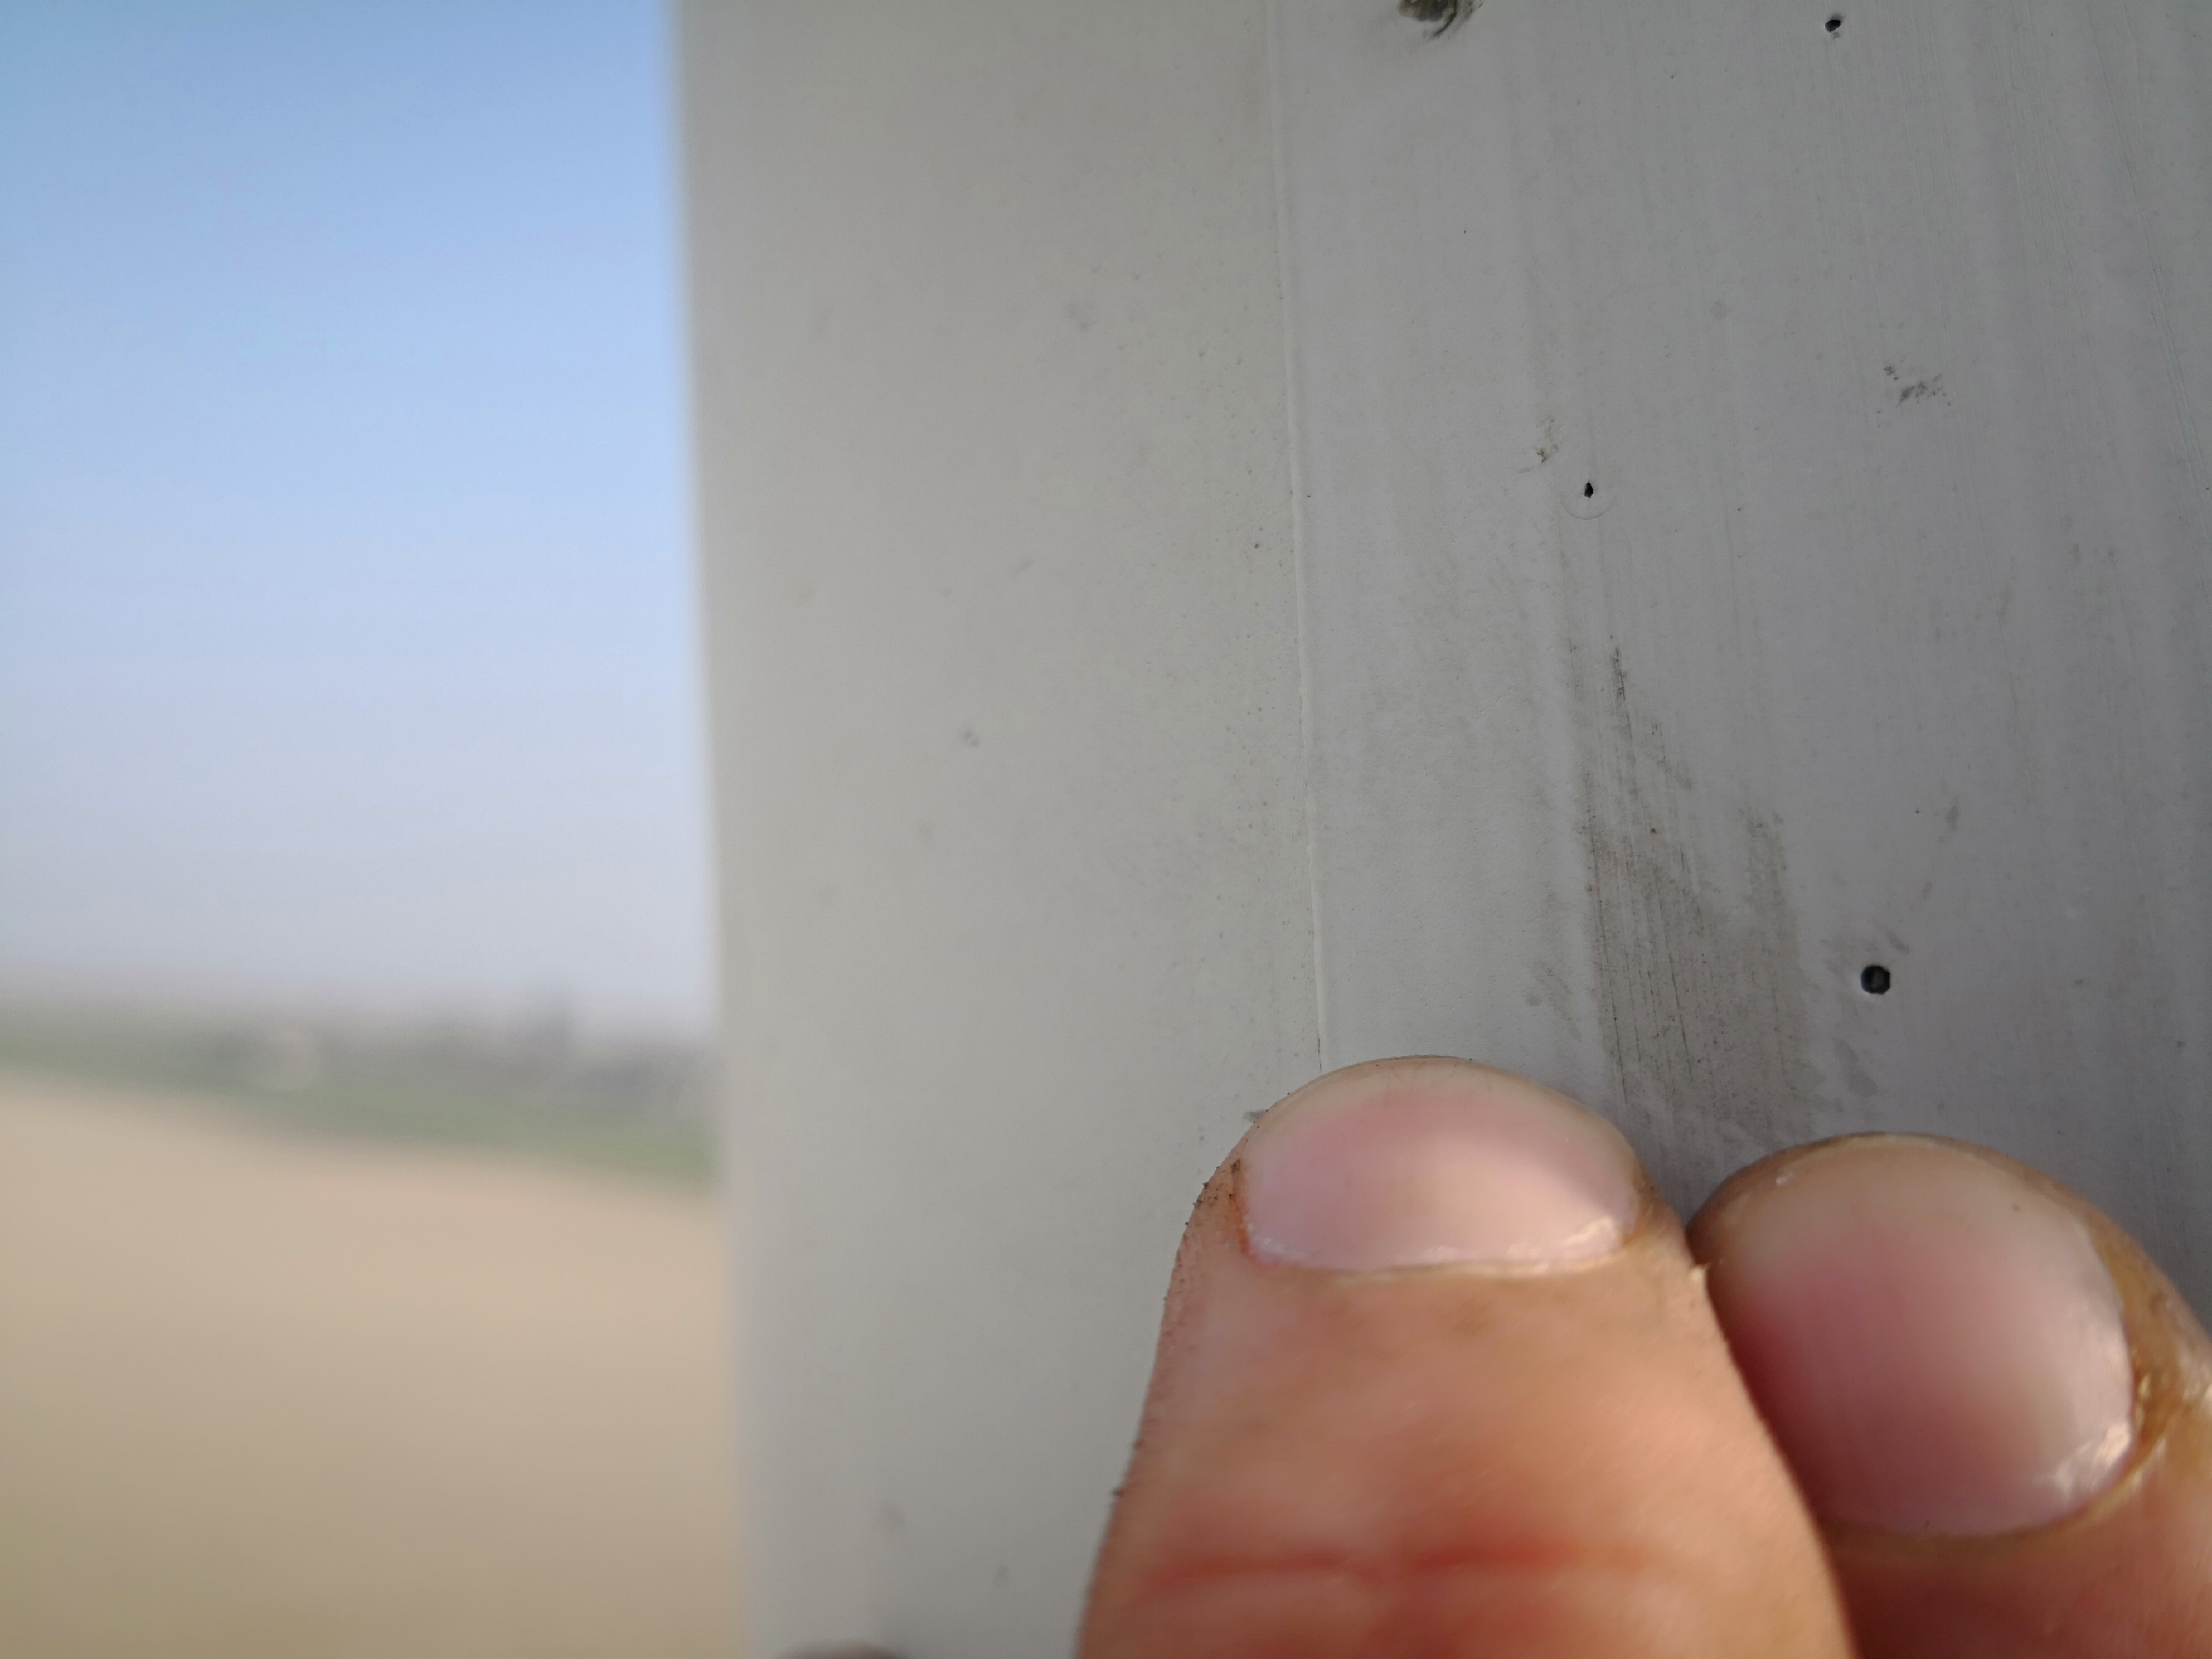SD: (1834, 953, 1916, 1009)
